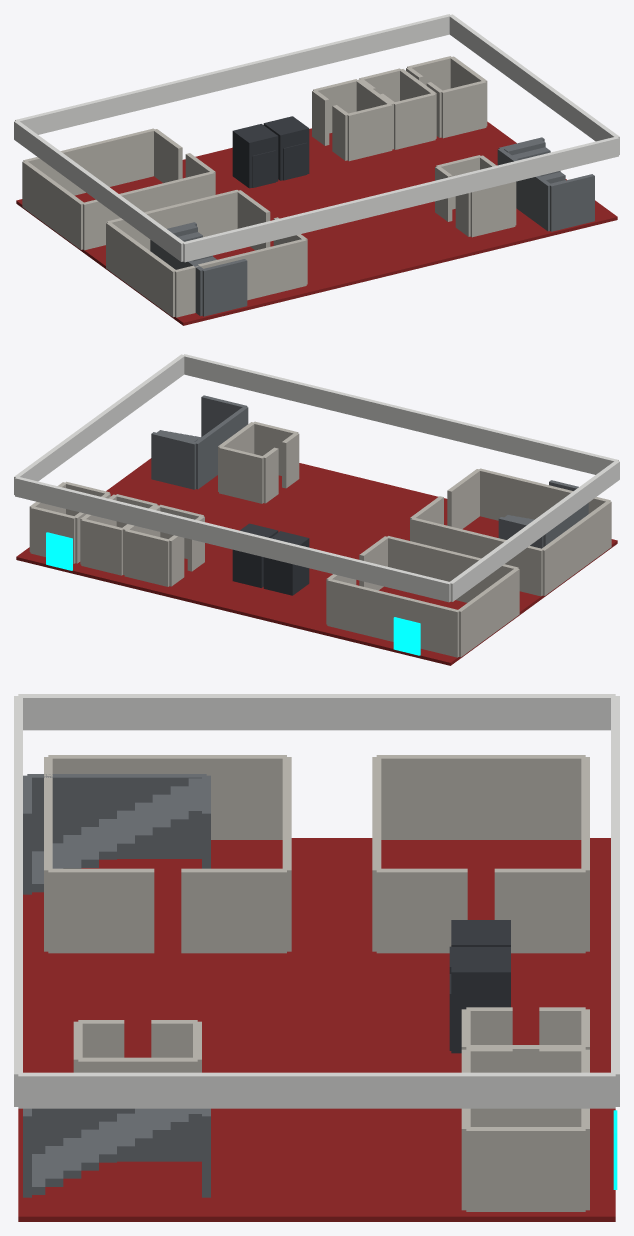
File: Floor_05_Executive.fbx
3 renders of one model, top to bottom at view 1: azimuth 30°, elevation 25°; view 2: azimuth 150°, elevation 25°; view 3: azimuth 270°, elevation 25°, orthographic. The views are drawn at different scales.
Parts seen in each view (by area): view 1: F5_Slab, F5_Wall_F, F5_Wall_B, F5_Wall_F_Hdr, F5_BoardRoom_S, F5_ExecutiveOffice_N, F5_Wall_B_Hdr, F5_BoardRoom_W, F5_ExecutiveOffice_S, F5_ExecutiveOffice_W, F5_BoardRoom_N, F5_Wall_L (+29 smaller); view 2: F5_Slab, F5_Wall_B, F5_Wall_F, F5_ExecutiveOffice_N, F5_Wall_B_Hdr, F5_Wall_F_Hdr, F5_BoardRoom_W, F5_BoardRoom_S, F5_BoardRoom_N, F5_ExecutiveOffice_S, F5_ExecutiveOffice_W, F5_Wall_L (+26 smaller); view 3: F5_Slab, F5_ExecutiveOffice_W, F5_Wall_R, F5_Wall_L, F5_RoofAccess_E, F5_Wall_R_Hdr, F5_BoardRoom_E1, F5_BoardRoom_W, F5_BoardRoom_E2, F5_Wall_L_Hdr, F5_StairA_Wo, F5_ExecutiveOffice_E1 (+36 smaller).
Part boxes in pixels (box(x1,y1,x2,y2)): F5_Slab: box(16, 121, 617, 325); F5_Wall_F: box(183, 143, 618, 262); F5_Wall_B: box(24, 21, 449, 134); F5_Wall_F_Hdr: box(182, 137, 618, 251); F5_BoardRoom_S: box(174, 239, 306, 317); F5_ExecutiveOffice_N: box(23, 128, 155, 195); F5_Wall_B_Hdr: box(15, 14, 451, 124); F5_BoardRoom_W: box(106, 222, 175, 317); F5_ExecutiveOffice_S: box(82, 171, 214, 250); F5_ExecutiveOffice_W: box(22, 161, 84, 249); F5_BoardRoom_N: box(107, 190, 237, 250); F5_Wall_L: box(14, 126, 183, 261); F5_Slab: box(16, 458, 617, 665); F5_Wall_B: box(15, 483, 450, 602); F5_Wall_F: box(184, 361, 609, 474); F5_ExecutiveOffice_N: box(327, 579, 459, 657); F5_Wall_B_Hdr: box(15, 477, 451, 591); F5_Wall_F_Hdr: box(182, 354, 618, 464); F5_BoardRoom_W: box(541, 501, 611, 595); F5_BoardRoom_S: box(478, 468, 610, 520); F5_BoardRoom_N: box(411, 517, 543, 596); F5_ExecutiveOffice_S: box(387, 536, 518, 602); F5_ExecutiveOffice_W: box(458, 568, 519, 657); F5_Wall_L: box(450, 467, 619, 601); F5_Slab: box(18, 838, 615, 1221); F5_ExecutiveOffice_W: box(376, 755, 585, 839); F5_Wall_R: box(18, 1084, 615, 1108); F5_Wall_L: box(23, 706, 610, 730); F5_RoofAccess_E: box(466, 1127, 585, 1211); F5_Wall_R_Hdr: box(18, 1072, 615, 1089); F5_BoardRoom_E1: box(48, 868, 154, 953); F5_BoardRoom_W: box(48, 755, 286, 839); F5_BoardRoom_E2: box(181, 868, 286, 953); F5_Wall_L_Hdr: box(18, 694, 615, 711); F5_StairA_Wo: box(27, 774, 206, 858); F5_ExecutiveOffice_E1: box(376, 868, 467, 953).
Bounding box in the file's own units: 30.3 × 5.45 × 20.3.
